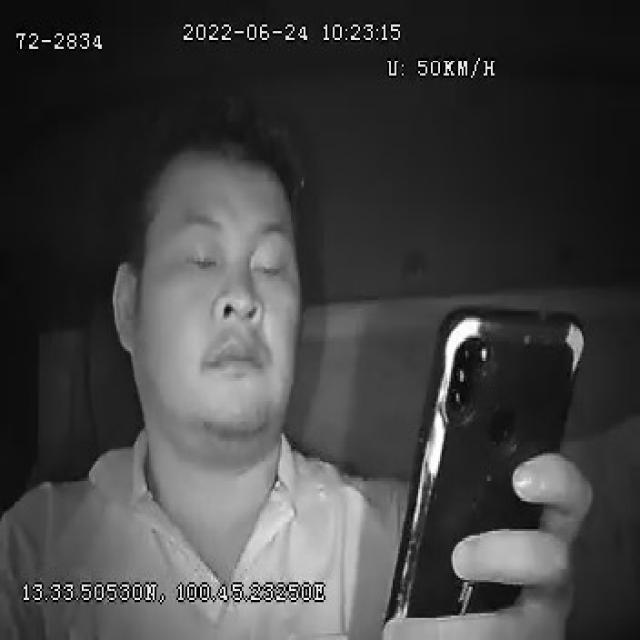phone: (386, 298, 586, 630)
